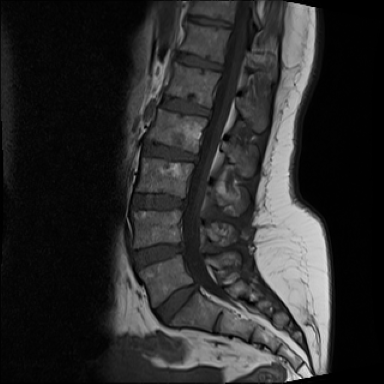Lumbar Disc Bulge (LDB): (147, 276, 205, 330), (129, 237, 191, 276), (138, 136, 204, 168)
Normal IVD: (121, 187, 192, 217), (156, 91, 218, 122), (173, 47, 229, 76), (183, 11, 239, 33)
Spinal Stenosis (SS): (171, 238, 190, 262), (187, 149, 204, 167), (191, 278, 205, 296)
